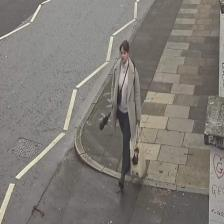person: (110, 40, 141, 186)
